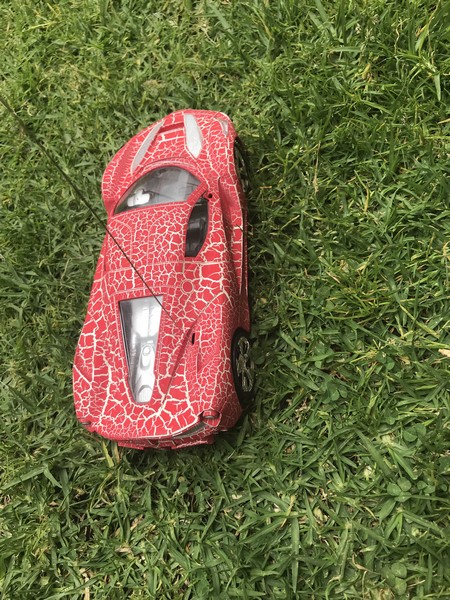RC: (71, 106, 251, 455)
